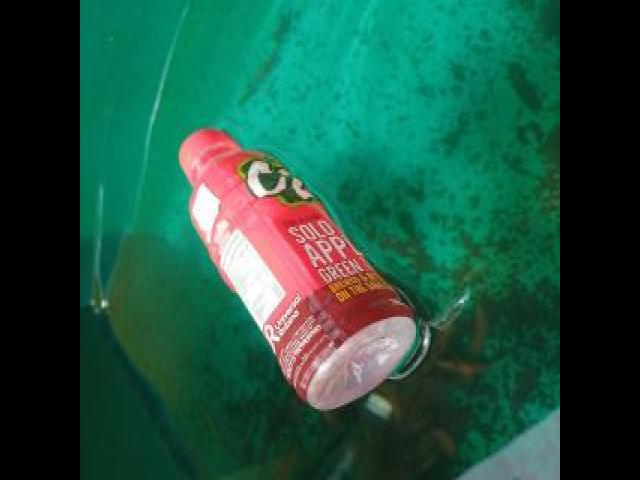Bottle: (172, 120, 426, 419)
